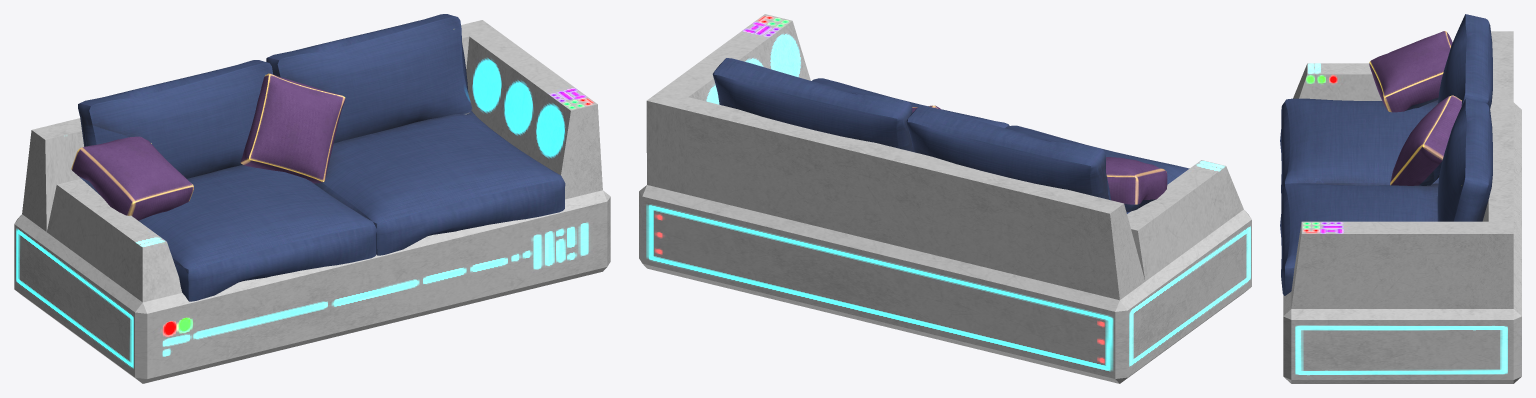
The model's file is sofa.glb.
The picture shows the model from 3 angles, left to right: view 1: azimuth 30°, elevation 25°; view 2: azimuth 150°, elevation 25°; view 3: azimuth 270°, elevation 25°; orthographic projection. The views are drawn at different scales.
Parts seen in each view (by area): view 1: Sofa; view 2: Sofa; view 3: Sofa.
Part boxes in pixels (x1,y1,x2,y2): Sofa: (14,14,610,383); Sofa: (639,14,1251,383); Sofa: (1280,14,1521,383).
Bounding box in the file's own units: 2 × 0.8003 × 0.9571.
Materials: 1 (1 with a texture image).
